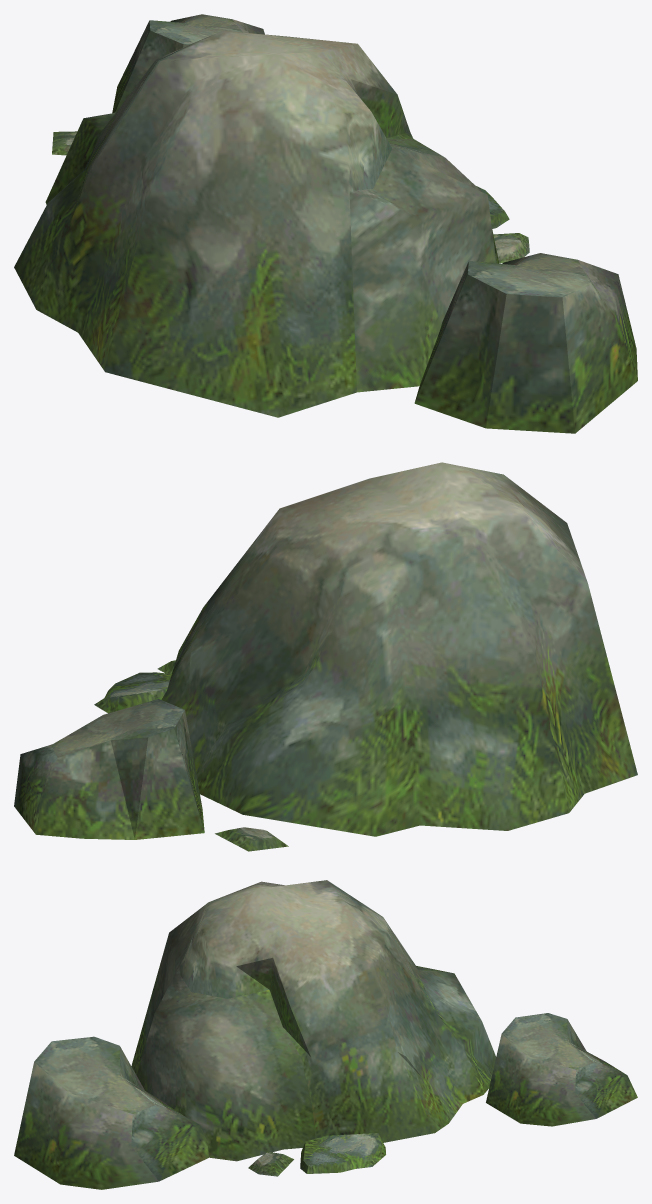
The model's file is 7001_Item_shitou_8.FBX.
3 views of the same model, one above another, from view 1: azimuth 30°, elevation 25°; view 2: azimuth 150°, elevation 25°; view 3: azimuth 270°, elevation 25° (orthographic). The views are drawn at different scales.
Parts seen in each view (by area): view 1: 7001_Item_shitou_8; view 2: 7001_Item_shitou_8; view 3: 7001_Item_shitou_8.
Boxes of the visible parts, bbox=[...] form: 7001_Item_shitou_8: bbox=[14, 14, 637, 433]; 7001_Item_shitou_8: bbox=[14, 462, 637, 851]; 7001_Item_shitou_8: bbox=[14, 880, 637, 1189].
Size of the model in its own units: 333 by 205 by 533.
